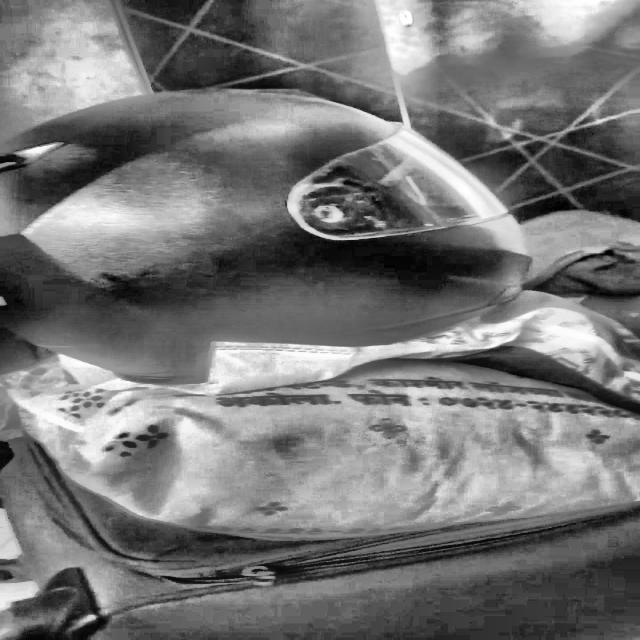Helmet: (0, 81, 547, 395)
